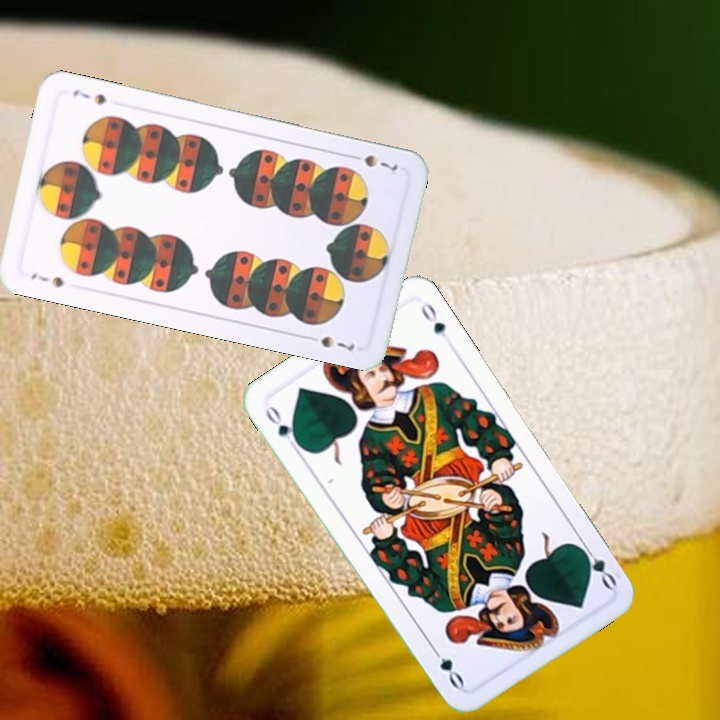GO: (574, 538, 620, 592), (261, 401, 304, 454)
S7: (345, 150, 401, 173), (27, 269, 67, 290)
